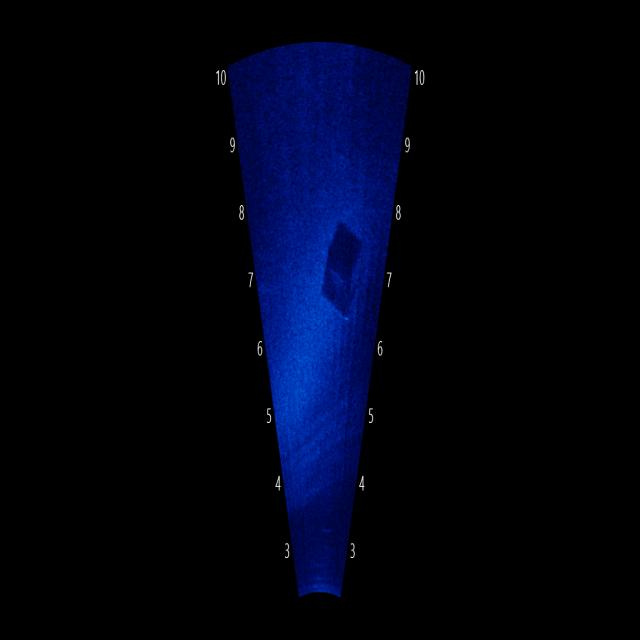square: (314, 208, 370, 333)
